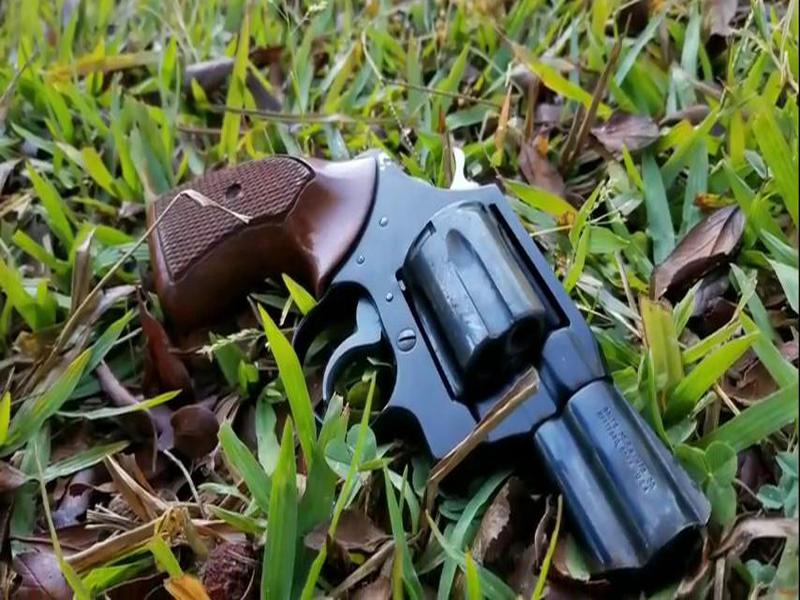Revolver: (110, 115, 722, 598)
